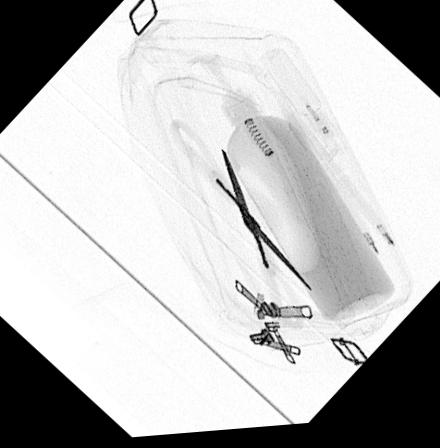Scissors: (168, 121, 312, 332)
